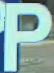Parking: (2, 1, 53, 66)
